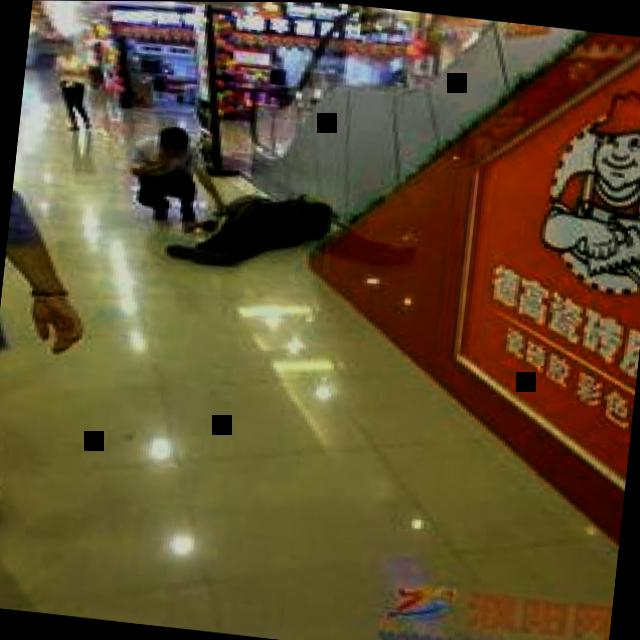Fall-Detected: (147, 161, 344, 285)
